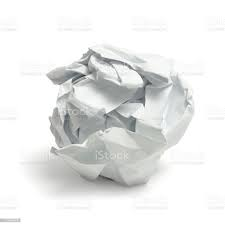crumpled paper: (45, 40, 196, 196)
